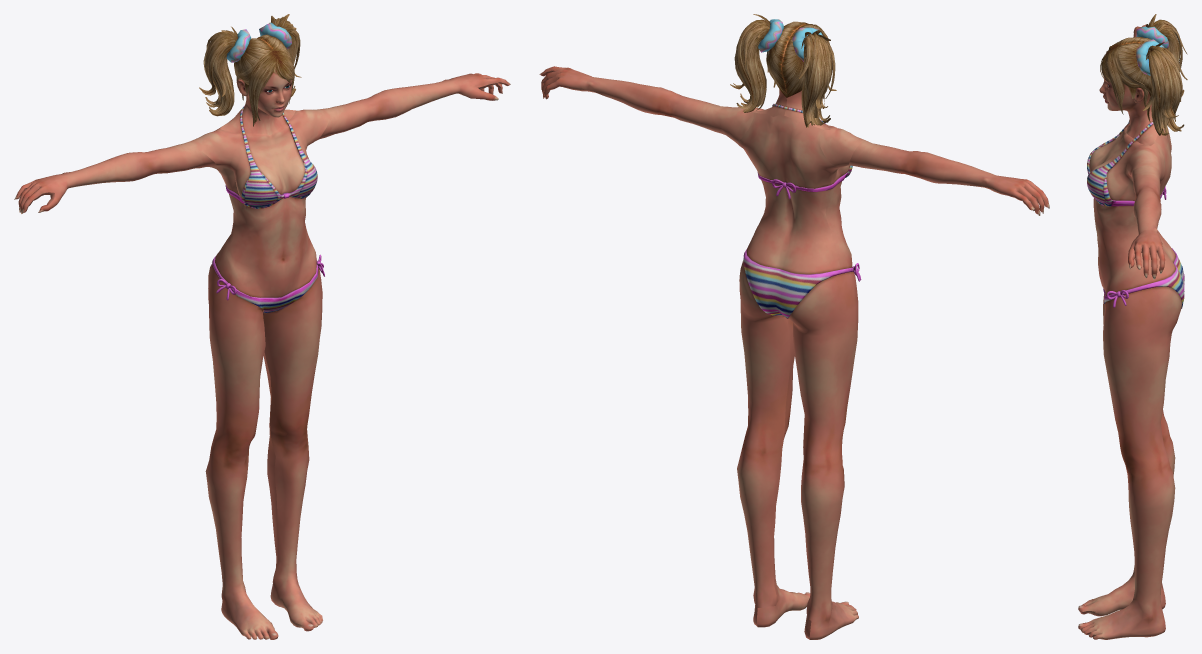
File: bikini-beach-girl.fbx
The picture shows the model from 3 angles, left to right: view 1: azimuth 30°, elevation 25°; view 2: azimuth 150°, elevation 25°; view 3: azimuth 270°, elevation 25°; orthographic projection. The views are drawn at different scales.
Visible parts, largest first — view 1: Body, Hair, Bikini, Face; view 2: Body, Hair, Bikini; view 3: Body, Hair, Bikini, Face.
Boxes of the visible parts, x1,y1,x2,y2 form: Body: (14, 22, 510, 639); Hair: (199, 14, 301, 126); Bikini: (212, 88, 324, 313); Face: (236, 69, 292, 117); Body: (539, 19, 1049, 639); Hair: (730, 14, 836, 127); Bikini: (743, 104, 861, 318); Body: (1078, 24, 1182, 639); Hair: (1100, 14, 1187, 135); Bikini: (1087, 121, 1184, 308); Face: (1099, 58, 1144, 110).
Size of the model in its own units: 32.94 by 37.75 by 6.31.
Materials: 4 (4 with a texture image).
